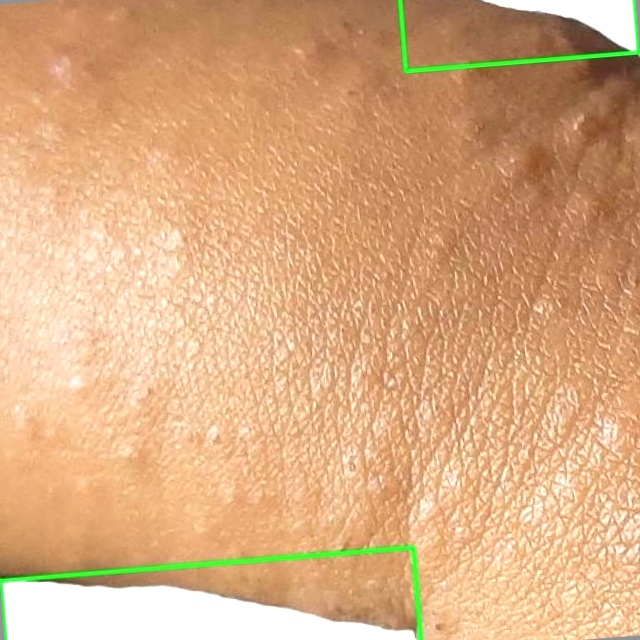Contact Dermatitis: (0, 547, 421, 639), (400, 0, 639, 71)
